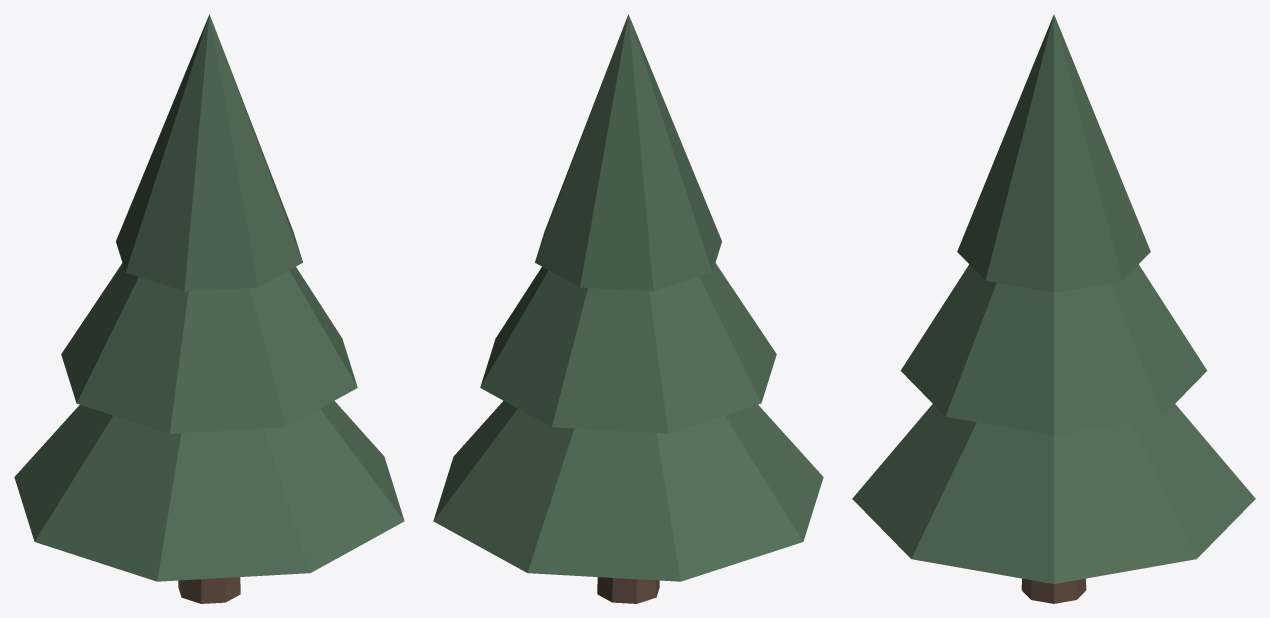
File: SH10_L02_Pine.fbx
3 renders of one model, left to right at view 1: azimuth 30°, elevation 25°; view 2: azimuth 150°, elevation 25°; view 3: azimuth 270°, elevation 25°, orthographic.
Visible parts, largest first — view 1: SH10_L02_Pine; view 2: SH10_L02_Pine; view 3: SH10_L02_Pine.
Part boxes in pixels (x1,y1,x2,y2): SH10_L02_Pine: (14,14,404,603); SH10_L02_Pine: (433,14,823,603); SH10_L02_Pine: (852,14,1255,603).
Bounding box in the file's own units: 200 × 315 × 200.
